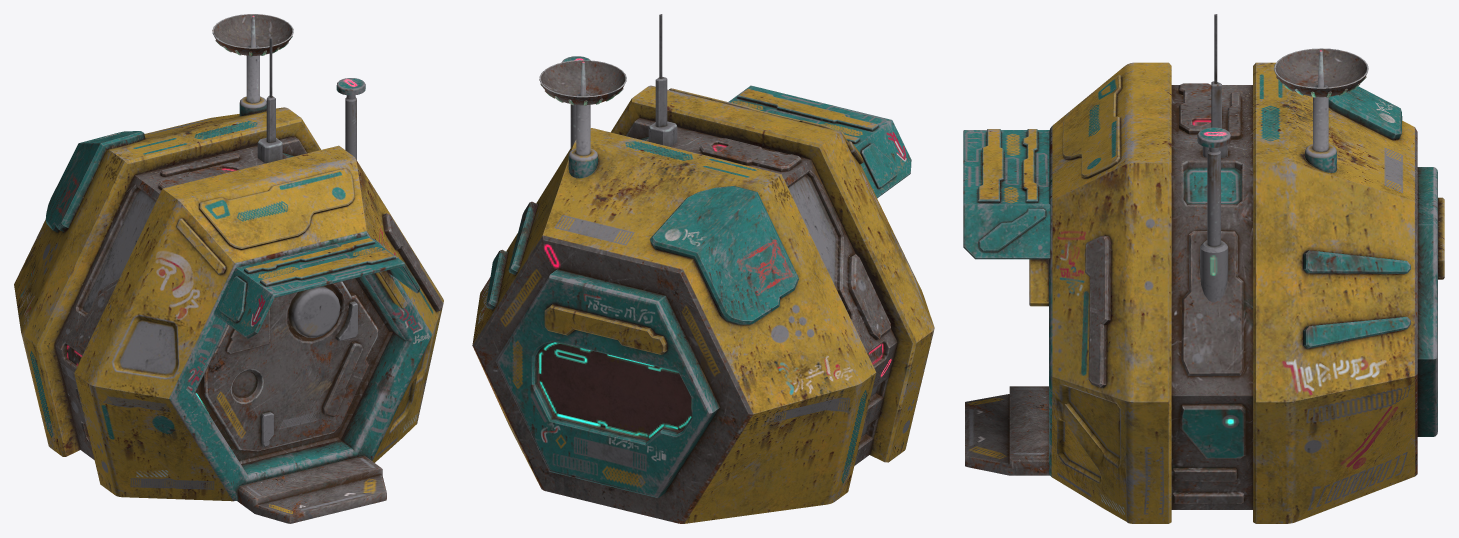
The model's file is low_poly_sci_fi_market_building_2.glb.
3 renders of one model, left to right at view 1: azimuth 30°, elevation 25°; view 2: azimuth 150°, elevation 25°; view 3: azimuth 270°, elevation 25°, orthographic. The views are drawn at different scales.
Parts seen in each view (by area): view 1: marketbuild2; view 2: marketbuild2; view 3: marketbuild2.
Part boxes in pixels (x1,y1,x2,y2): marketbuild2: [14, 14, 443, 523]; marketbuild2: [472, 14, 934, 523]; marketbuild2: [963, 14, 1444, 523].
Size of the model in its own units: 10.64 by 11.09 by 10.81.
1 material, 1 textured.
